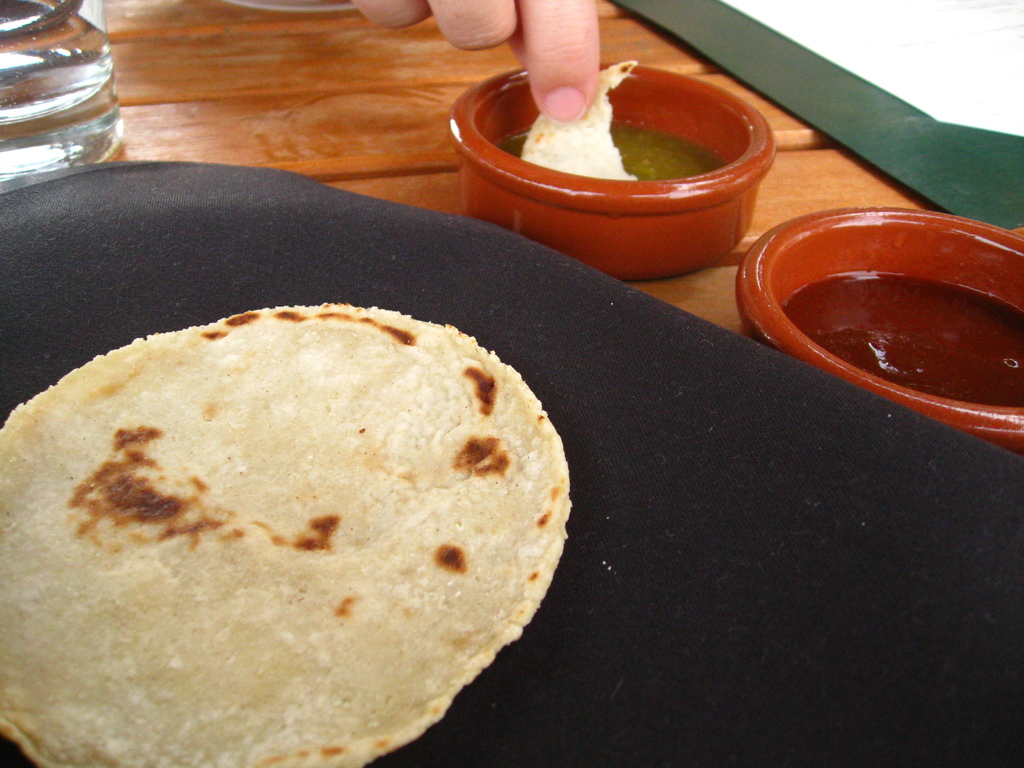person: (310, 0, 615, 149)
